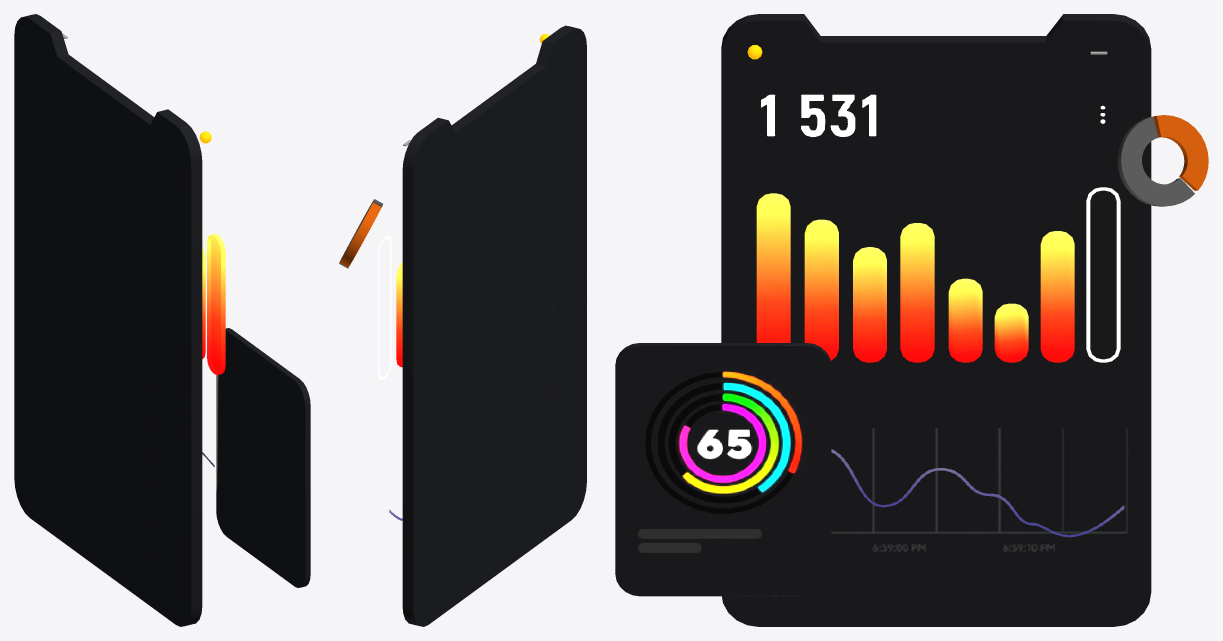
The model's file is discovery.glb.
3 renders of one model, left to right at view 1: azimuth 30°, elevation 25°; view 2: azimuth 150°, elevation 25°; view 3: azimuth 270°, elevation 25°, orthographic. The views are drawn at different scales.
Visible parts, largest first — view 1: body_low, addition_block_low, gaph_01_low, gaph_01_low.001; view 2: body_low, diogram_low, gaph_01_low.006, gaph_08_low; view 3: body_low, addition_block_low, diogram_low, gaph_01_low, gaph_01_low.003, gaph_01_low.001, gaph_01_low.006, gaph_01_low.002, gaph_01_low.004, number_low, gaph_01_low.005, gaph_08_low (+1 smaller).
Boxes of the visible parts, x1,y1,x2,y2 form: body_low: (14,14,202,626); addition_block_low: (216,328,310,587); gaph_01_low: (207,234,225,374); gaph_01_low.001: (202,247,205,358); body_low: (402,25,586,626); diogram_low: (339,199,382,268); gaph_01_low.006: (396,262,402,367); gaph_08_low: (378,236,391,379); body_low: (721,14,1151,626); addition_block_low: (615,343,831,596); diogram_low: (1117,115,1208,206); gaph_01_low: (756,193,790,342); gaph_01_low.003: (900,223,934,362); gaph_01_low.001: (804,219,838,360); gaph_01_low.006: (1040,231,1074,362); gaph_01_low.002: (853,247,886,362); gaph_01_low.004: (948,278,982,362); number_low: (761,94,876,137); gaph_01_low.005: (994,303,1028,362); gaph_08_low: (1086,187,1120,362).
Bounding box in the file's own units: 0.1173 × 0.7393 × 0.6557.
Materials: 1 (1 with a texture image).
